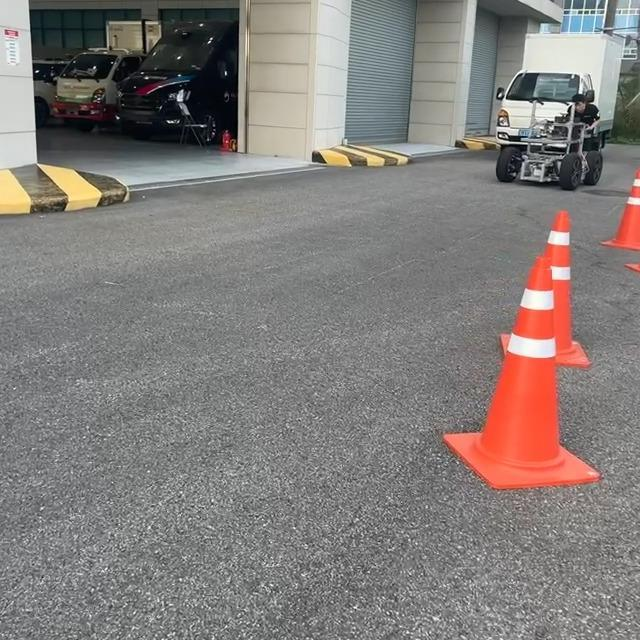fallen_object: (415, 260, 624, 512), (477, 199, 611, 380), (591, 140, 640, 301)
